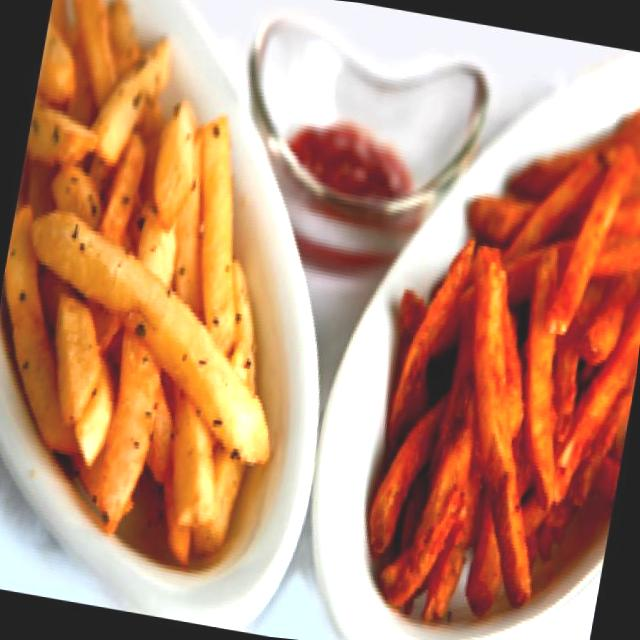French Fries: (0, 0, 298, 558)
